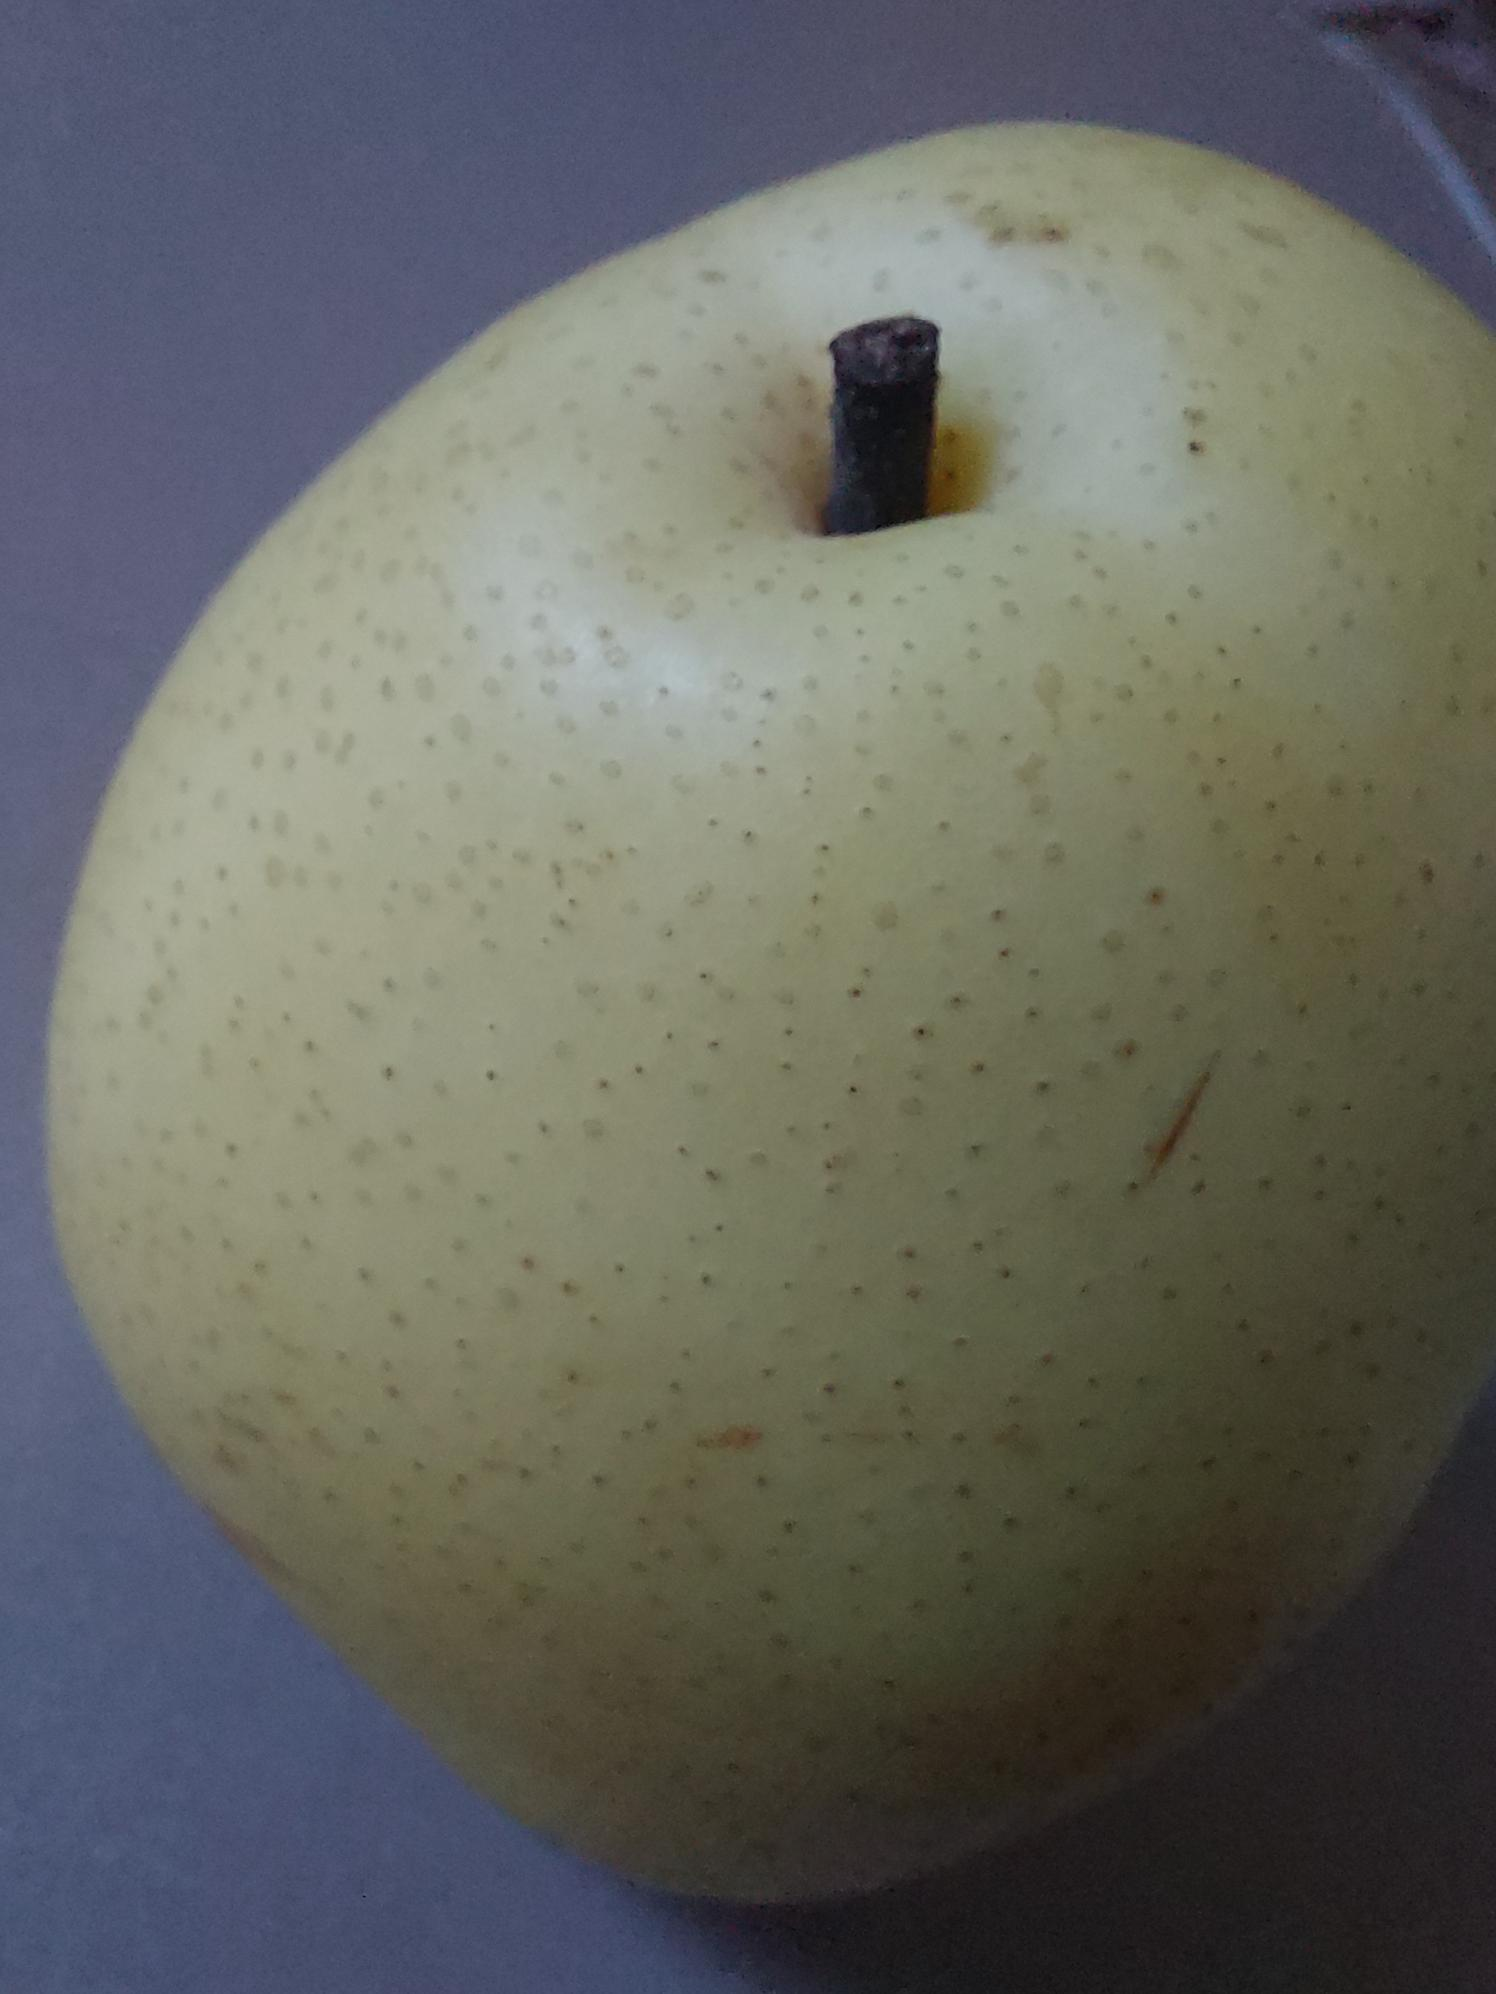Good Pear: (42, 108, 1496, 1908)
